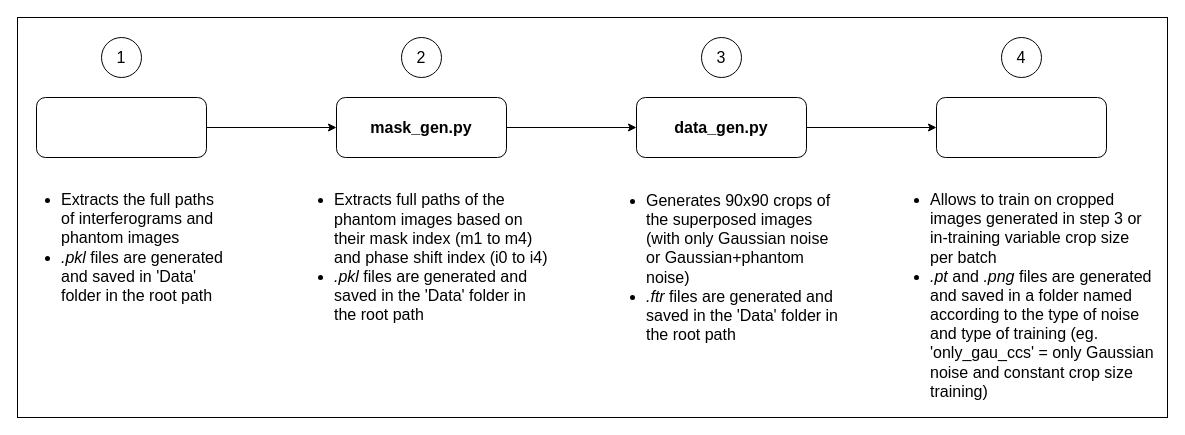
Image size: 1185x435. Some labels were removed from this diagram. Here are the shapes that lost their labels. From the top down, the box of each, then its label:
(36, 96, 206, 158): num_images.py
(936, 96, 1106, 158): training.py
